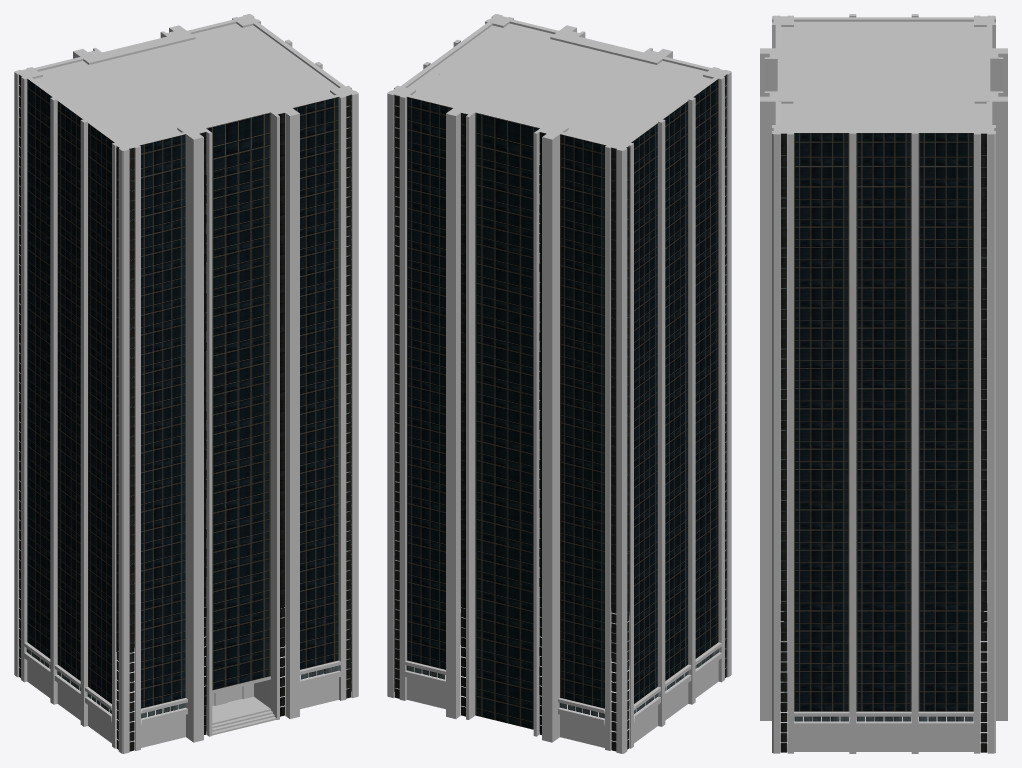
3 views of the same model, side by side, from view 1: azimuth 30°, elevation 25°; view 2: azimuth 150°, elevation 25°; view 3: azimuth 270°, elevation 25° (orthographic). The views are drawn at different scales.
Parts seen in each view (by area): view 1: Building; view 2: Building; view 3: Building.
Boxes of the visible parts, bbox=[...] form: Building: bbox=[14, 14, 358, 753]; Building: bbox=[387, 14, 731, 753]; Building: bbox=[760, 14, 1007, 753].
Size of what is drawn, in the model's own units: 38.1 by 92.2 by 33.4.
